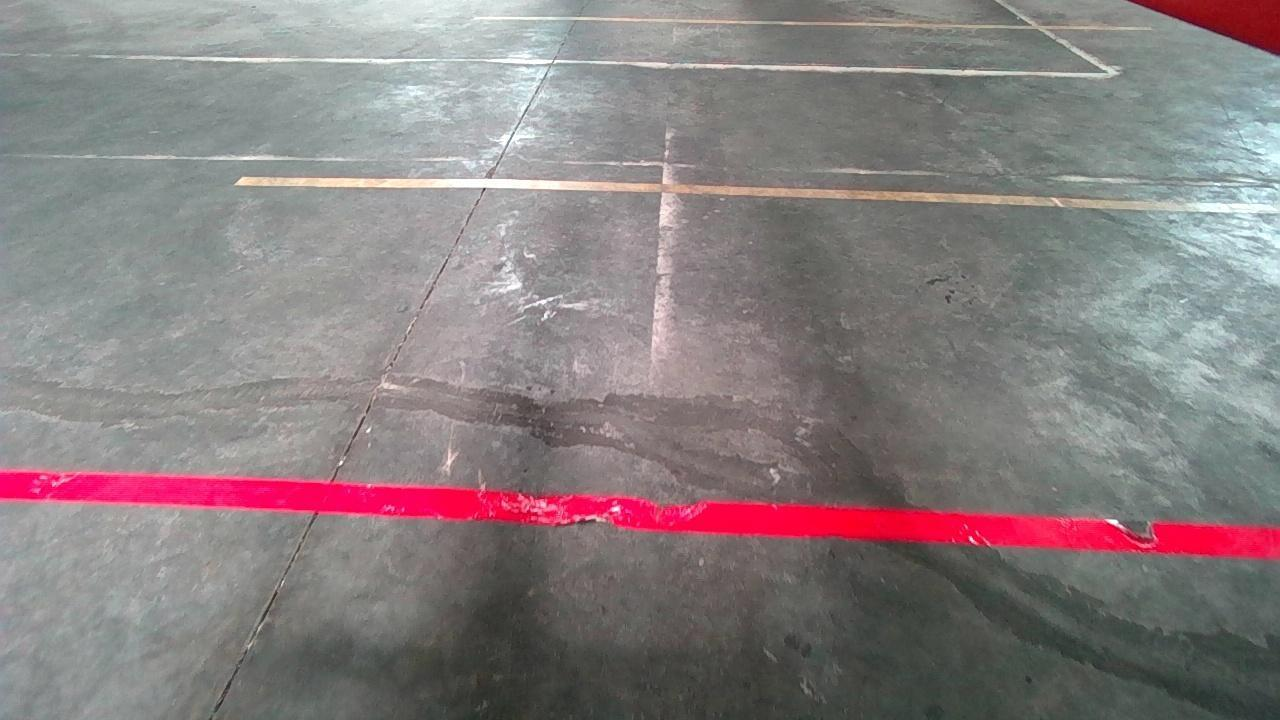red_line: (0, 465, 1280, 555)
yellow_line: (231, 174, 1280, 215)
